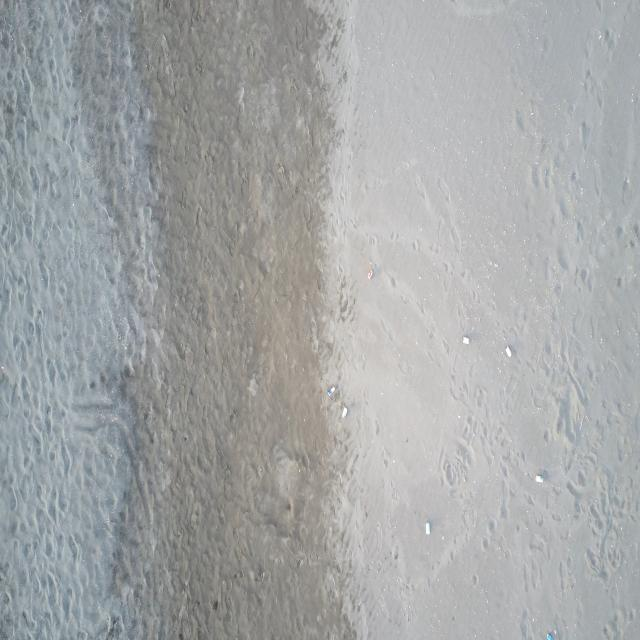Garbage: (327, 384, 335, 397), (424, 520, 430, 535), (0, 366, 5, 382), (367, 264, 372, 279), (535, 473, 543, 482), (340, 407, 347, 416), (504, 346, 510, 356), (462, 335, 468, 344), (546, 632, 553, 639)
